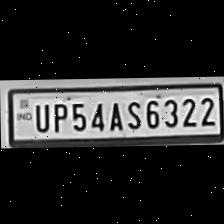2: (178, 94, 196, 127), (196, 94, 214, 125)
3: (160, 96, 178, 127)
4: (86, 99, 106, 130)
5: (66, 100, 88, 132)
6: (143, 96, 161, 127)
A: (104, 98, 122, 130)
P: (48, 100, 68, 132)
S: (124, 97, 142, 128)
U: (31, 100, 50, 132)
